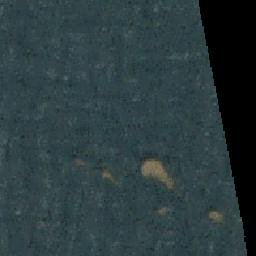debris: (138, 160, 174, 189)
